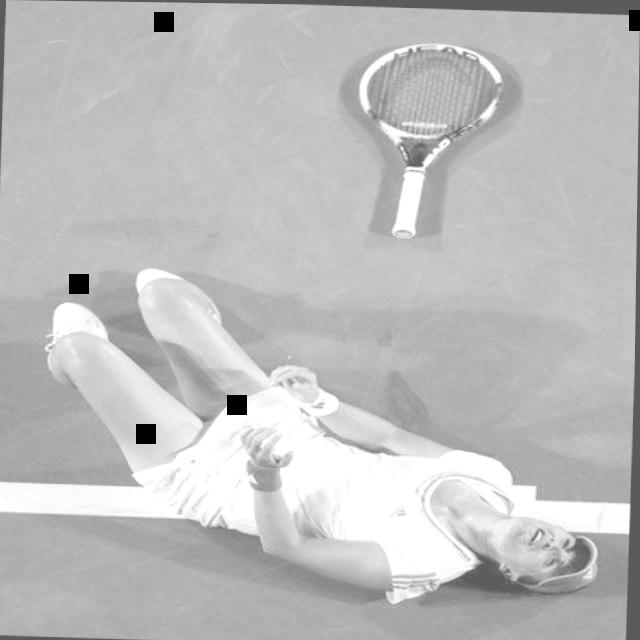Fall-Detected: (17, 251, 616, 620)
